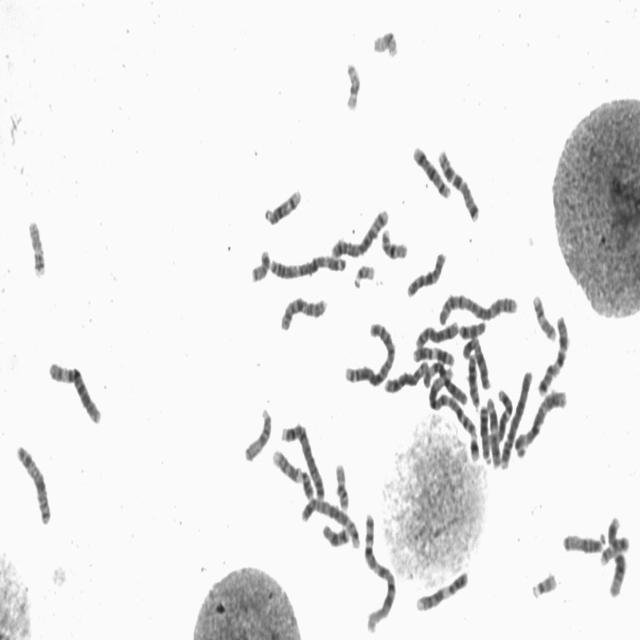A1: (360, 507, 398, 635), (424, 359, 479, 439)
A2: (341, 316, 397, 389), (434, 284, 520, 326)
A3: (512, 384, 568, 459), (266, 247, 348, 281)
B4: (497, 364, 535, 472), (278, 417, 326, 502)
B5: (298, 492, 362, 551), (328, 202, 391, 260)
C10: (404, 246, 447, 299), (277, 290, 329, 333)
C11: (485, 393, 502, 469), (409, 341, 456, 366)
C12: (604, 512, 628, 598), (495, 383, 514, 451)
C6: (46, 354, 104, 426), (421, 357, 469, 407)
C7: (435, 143, 481, 224), (535, 309, 571, 397)
C8: (380, 354, 431, 394), (412, 314, 461, 348)
C9: (413, 565, 470, 614), (269, 442, 316, 500)
D13: (465, 348, 482, 412), (478, 400, 492, 465)
D14: (410, 139, 452, 200), (261, 182, 303, 227)
D15: (241, 402, 273, 464), (560, 526, 608, 554)
E16: (378, 222, 410, 261), (332, 457, 351, 512)
E17: (529, 288, 558, 343), (25, 213, 47, 279)
E18: (319, 517, 352, 548), (456, 315, 488, 339)
F19: (342, 56, 362, 112), (370, 24, 400, 59)
F20: (598, 530, 632, 567), (248, 243, 272, 284)
G21: (467, 430, 481, 462)
G22: (528, 566, 559, 601), (351, 258, 376, 290)
X: (12, 438, 53, 527), (461, 332, 492, 391)
